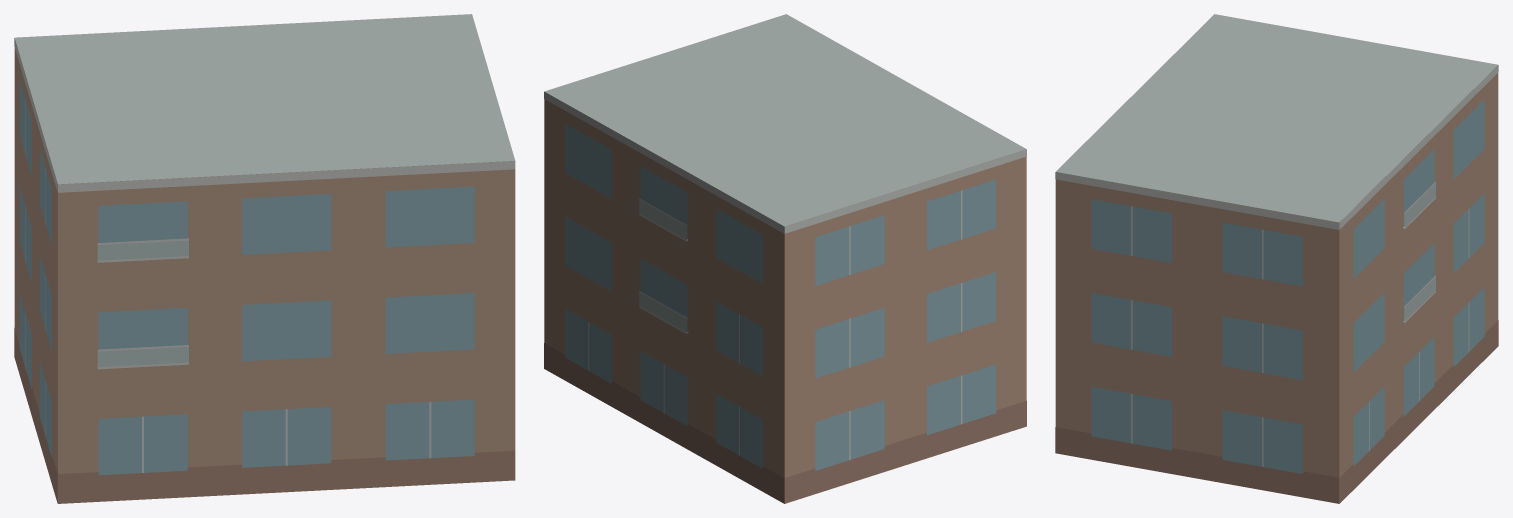
Rendered from survey-upis-32718976.glb.
The picture shows the model from 3 angles, left to right: view 1: azimuth 30°, elevation 25°; view 2: azimuth 150°, elevation 25°; view 3: azimuth 270°, elevation 25°; orthographic projection. The views are drawn at different scales.
Parts seen in each view (by area): view 1: survey-upis-32718976.tmp; view 2: survey-upis-32718976.tmp; view 3: survey-upis-32718976.tmp.
Part boxes in pixels (bbox=[...]): survey-upis-32718976.tmp: bbox=[14, 14, 515, 503]; survey-upis-32718976.tmp: bbox=[544, 14, 1026, 503]; survey-upis-32718976.tmp: bbox=[1055, 14, 1498, 503].
Size of the model in its own units: 14.55 by 9.15 by 13.06.
